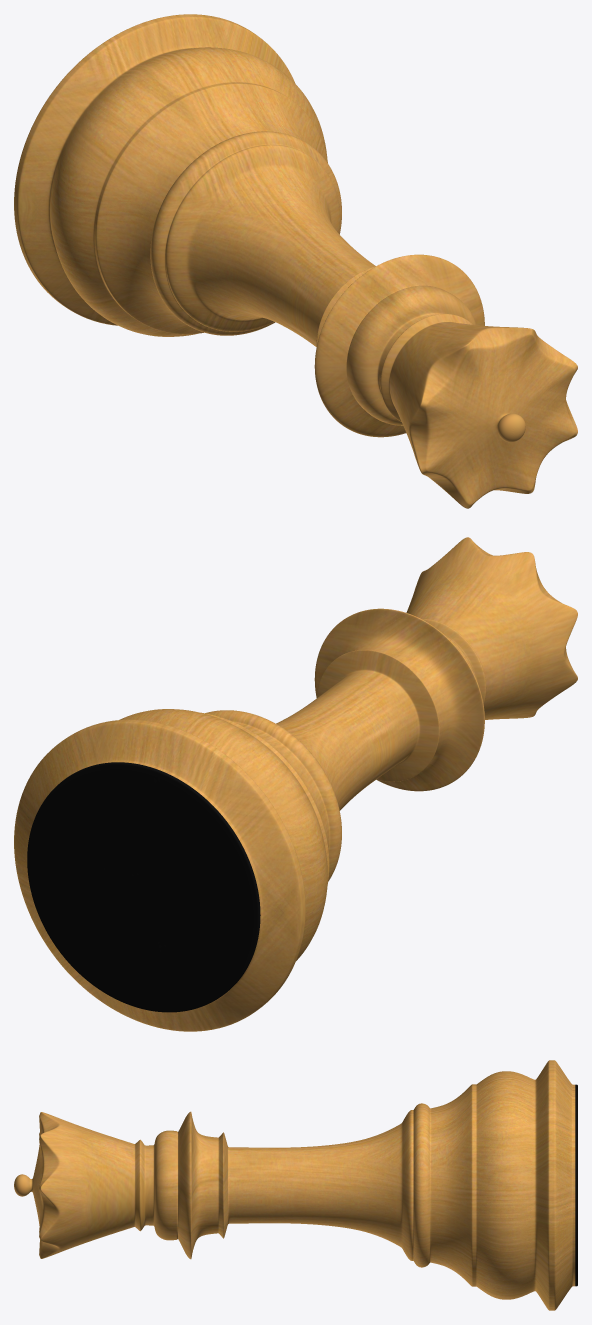
File: 12927_Wooden_Chess_Queen_side_A_v1_l3.obj
The picture shows the model from 3 angles, top to bottom: view 1: azimuth 30°, elevation 25°; view 2: azimuth 150°, elevation 25°; view 3: azimuth 270°, elevation 25°; orthographic projection. The views are drawn at different scales.
Parts seen in each view (by area): view 1: WoodenChessQueenSideA; view 2: WoodenChessQueenSideA; view 3: WoodenChessQueenSideA.
Part boxes in pixels (x1,y1,x2,y2): WoodenChessQueenSideA: [14, 14, 577, 508]; WoodenChessQueenSideA: [14, 537, 577, 1031]; WoodenChessQueenSideA: [14, 1060, 577, 1310].
Size of the model in its own units: 4.51 by 4.51 by 10.16.
1 material, 1 textured.
